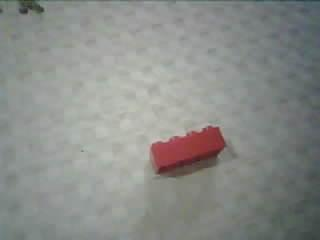lego: (149, 125, 226, 174)
